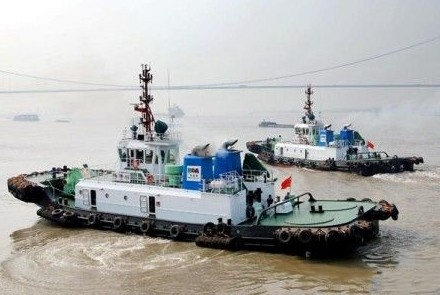otherboat: (2, 61, 401, 258), (242, 83, 428, 175)
